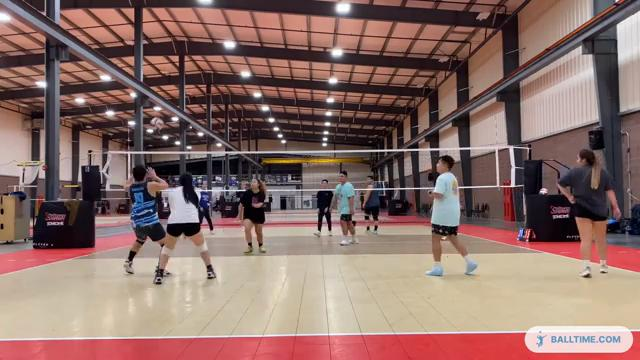Player: (557, 149, 620, 277), (154, 173, 215, 284), (426, 155, 476, 275), (238, 179, 266, 253), (331, 171, 358, 245), (314, 179, 332, 236), (363, 176, 379, 234), (199, 191, 213, 233)
Receive: (116, 161, 171, 277)
ball: (149, 116, 165, 130)
